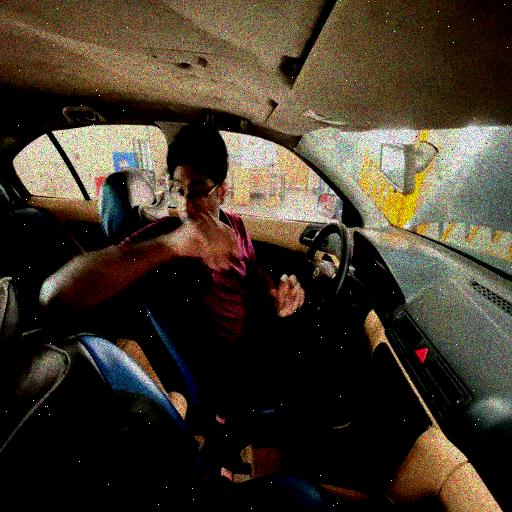Reaching_behind: (38, 119, 304, 423)
